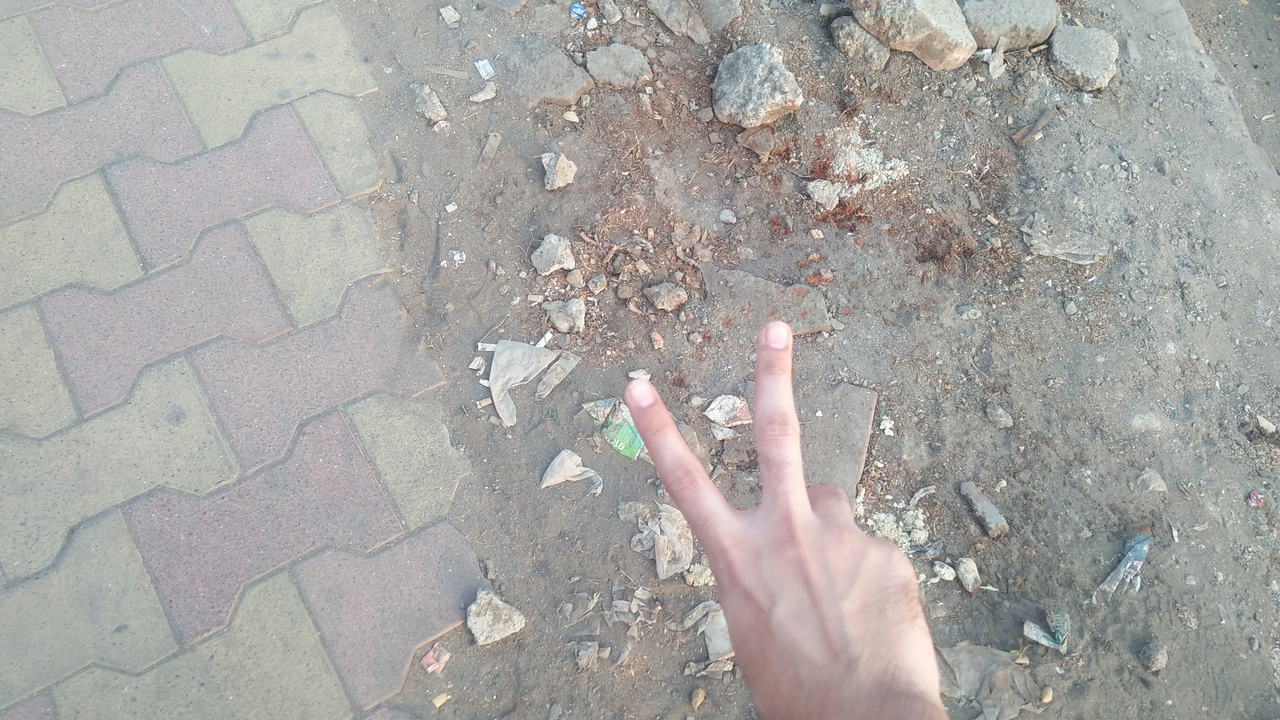fingertip: (614, 362, 670, 426), (752, 310, 802, 364)
